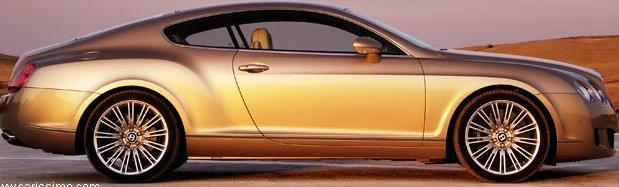headlight: (571, 74, 608, 108)
side_glass: (160, 10, 412, 62)
